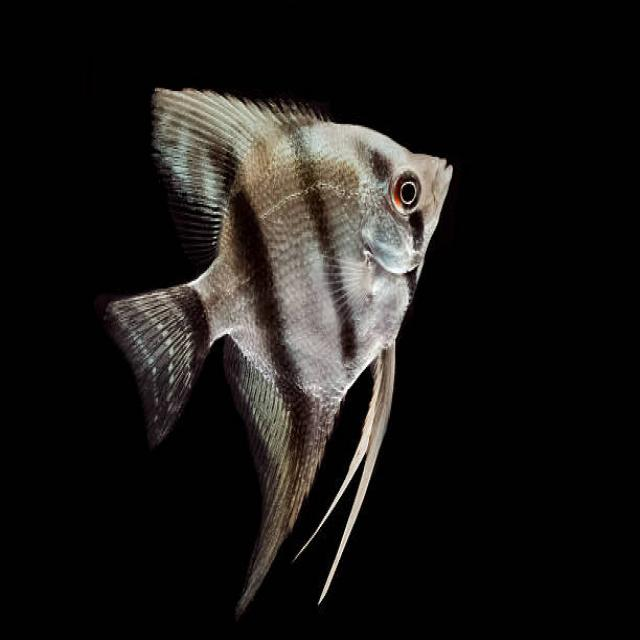AngelFish: (112, 78, 456, 610)
